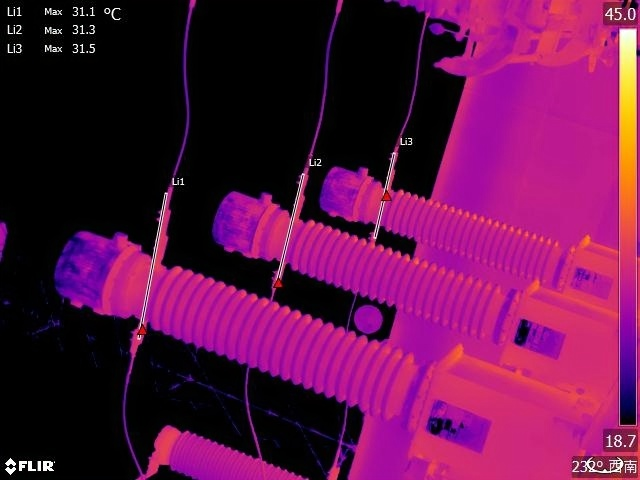circuit breaker: (118, 416, 327, 480)
current transformer: (42, 216, 606, 467), (212, 180, 616, 389), (323, 156, 617, 314)
